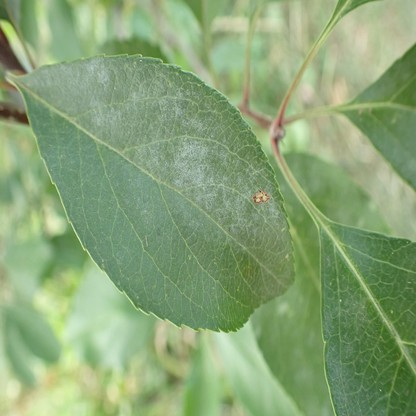powdery_mildew: (21, 55, 297, 303), (319, 222, 415, 416), (356, 46, 416, 102), (374, 111, 416, 187), (293, 369, 330, 416), (292, 157, 318, 195), (276, 288, 301, 317), (250, 306, 261, 340), (291, 346, 303, 362), (309, 332, 315, 344)
